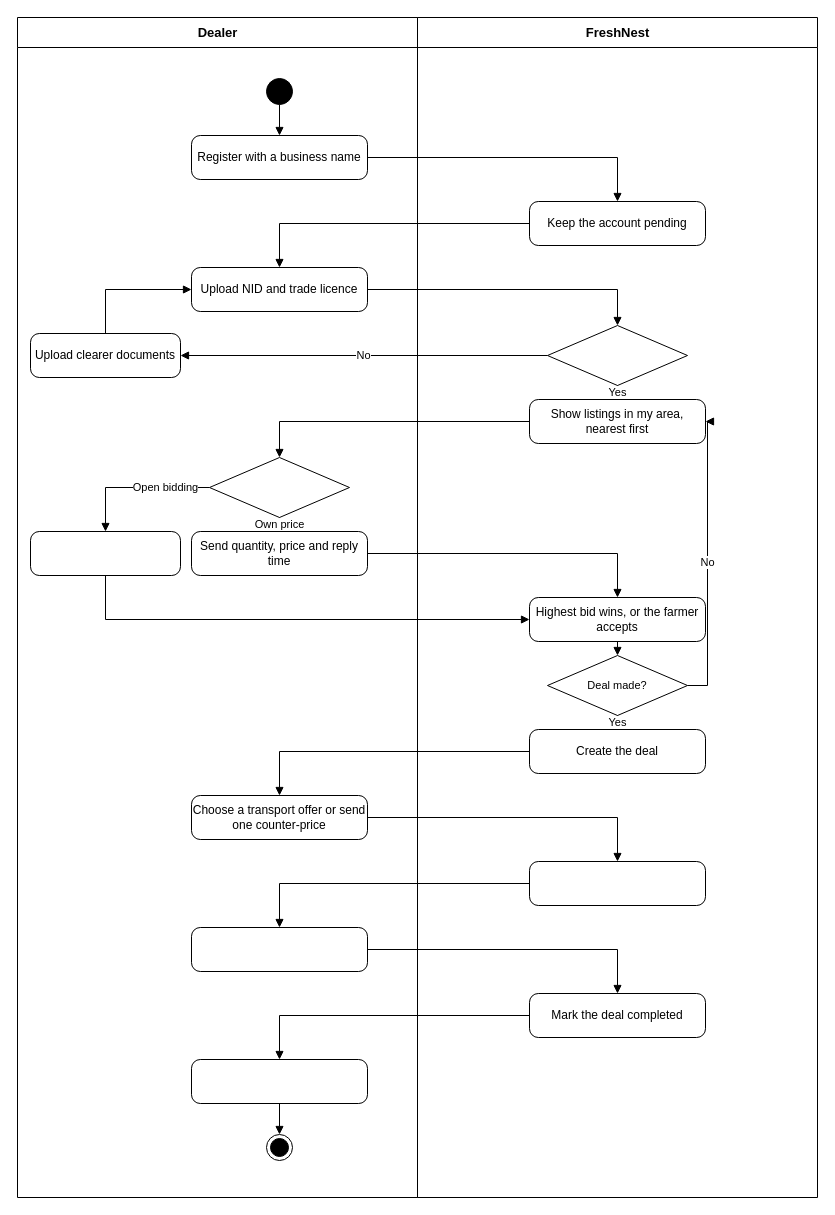
Some shapes in this 835 by 1215 pixel diagram are drawn without their labels. Each missing label, with the box of its shape:
Bid on the whole lot or Buy Now: (30, 530, 180, 576)
Book the vehicle and make the handover codes: (528, 860, 706, 906)
Documents approved?: (546, 324, 688, 386)
Give the delivery code when the produce arrives: (190, 926, 368, 972)
Rate the farmer: (190, 1058, 368, 1104)
Selling mode?: (208, 456, 350, 518)
